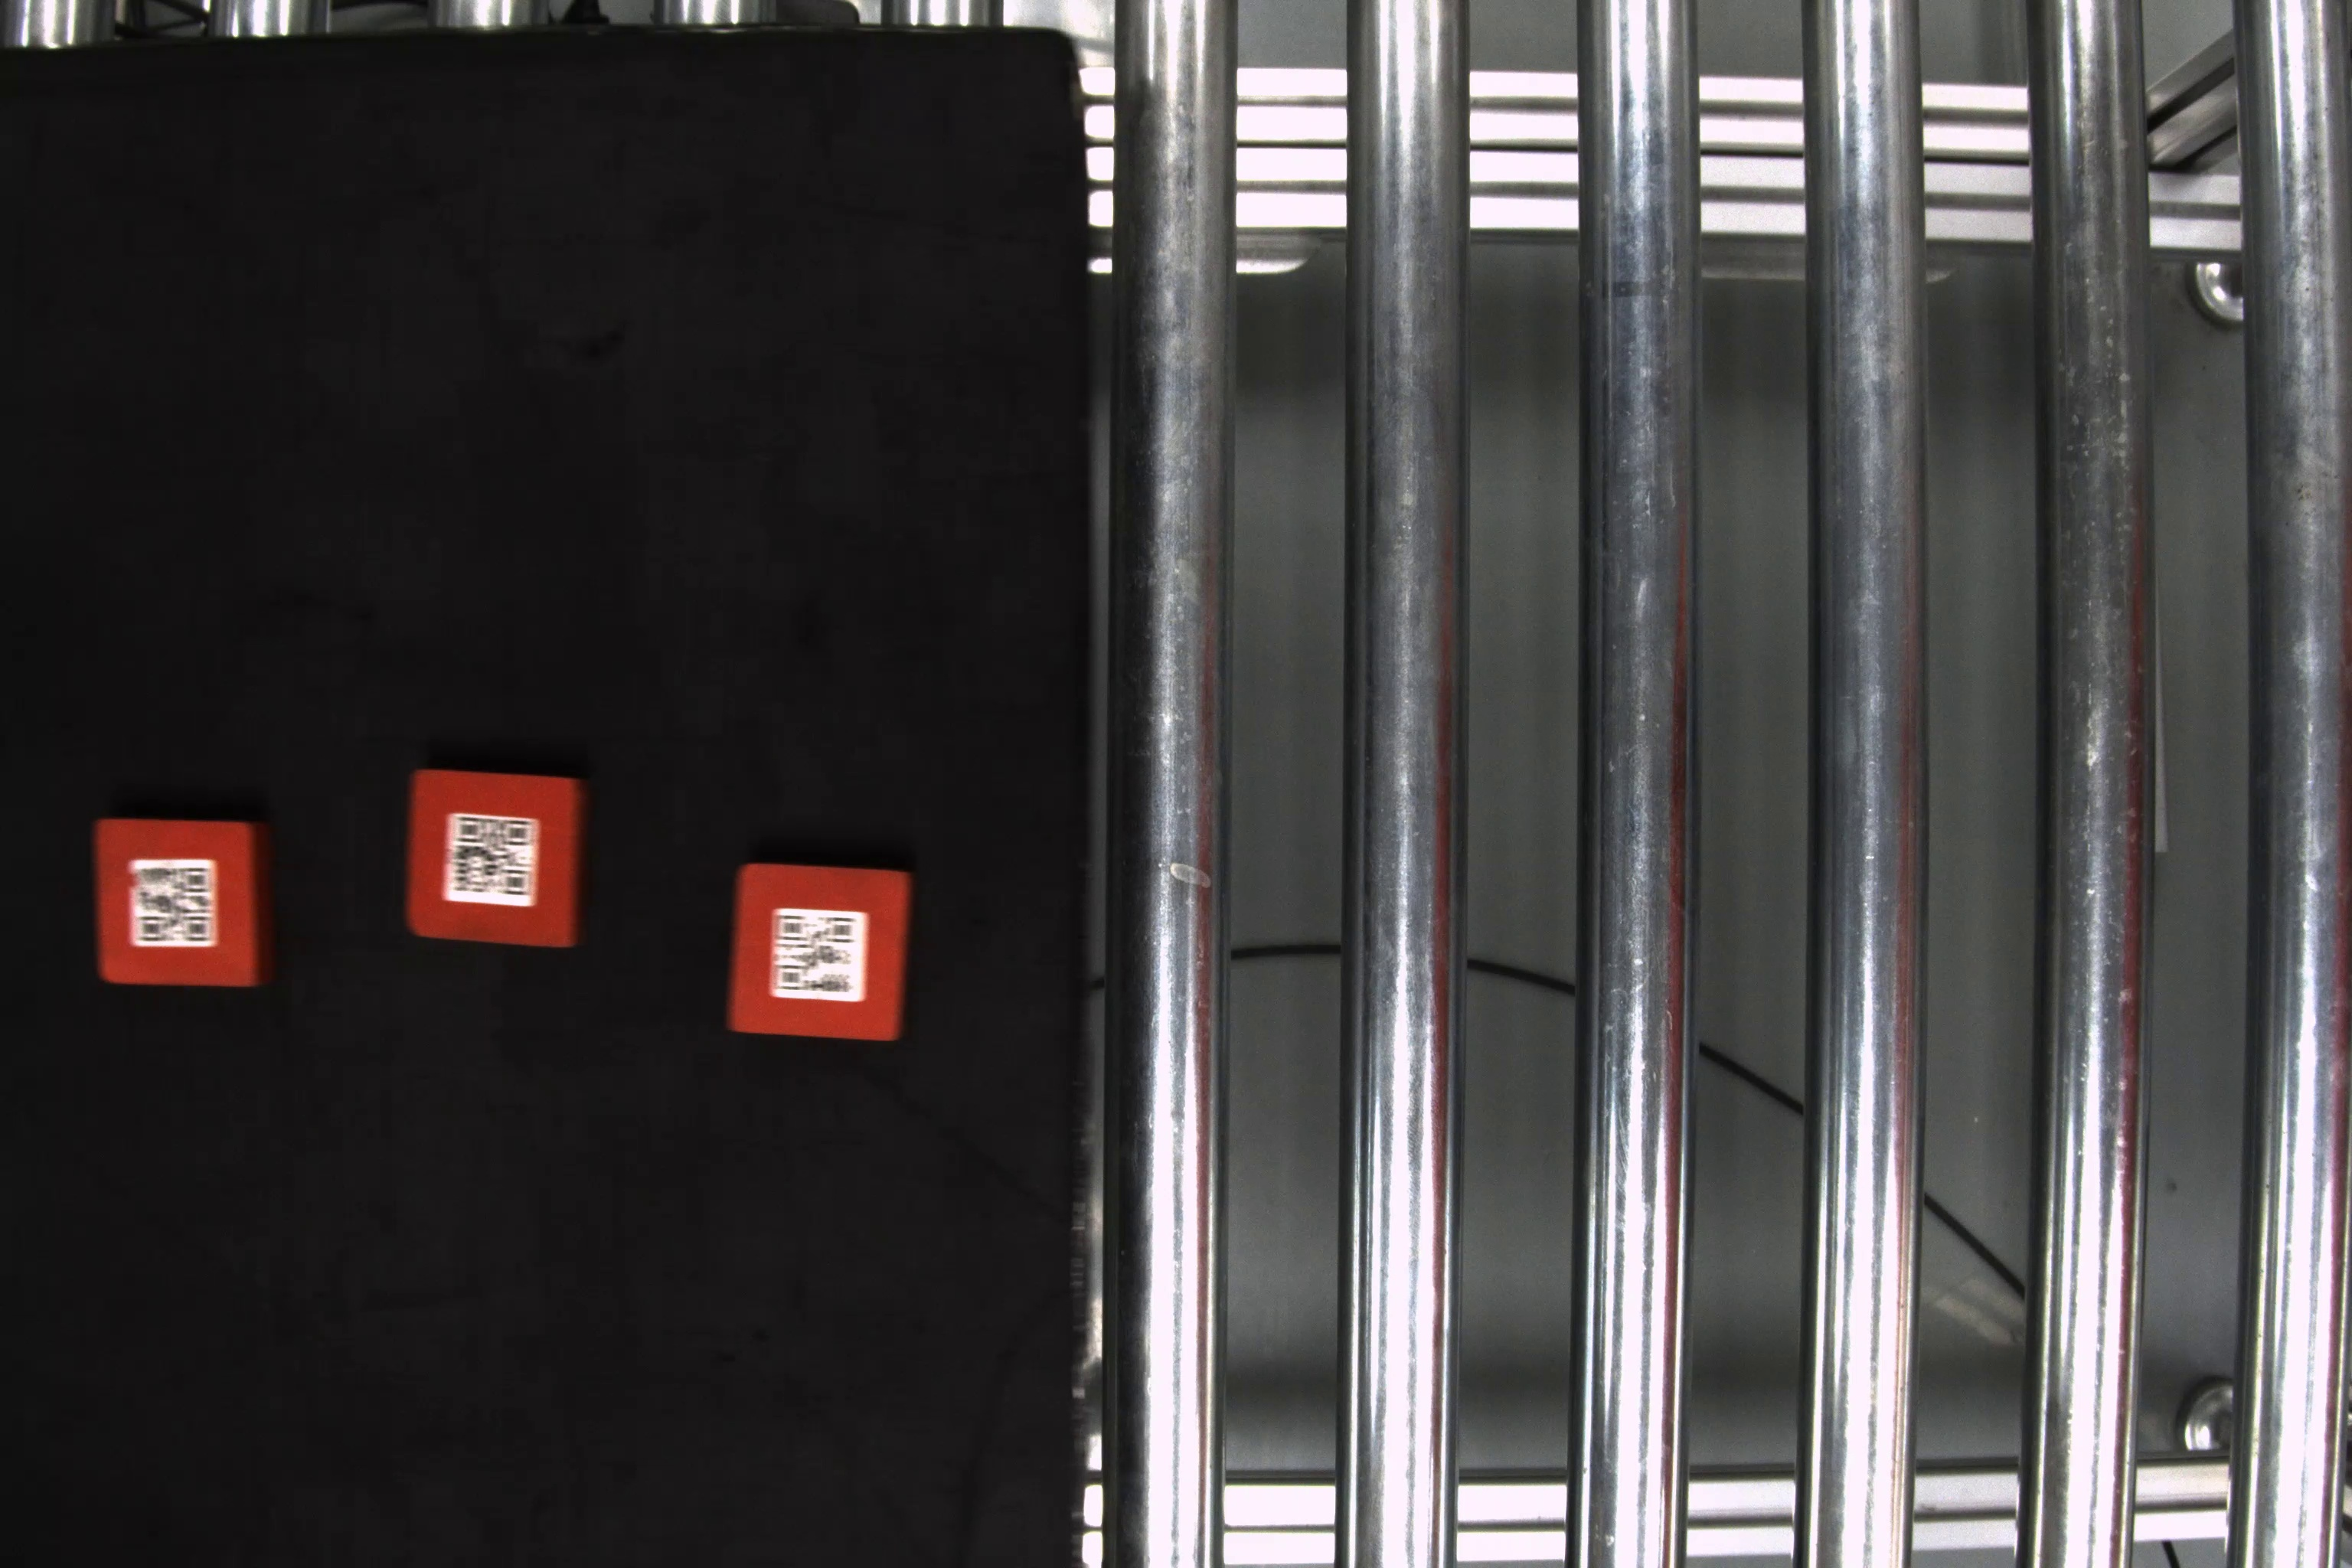wood: (401, 766, 598, 955), (84, 810, 285, 992), (728, 859, 920, 1043)
